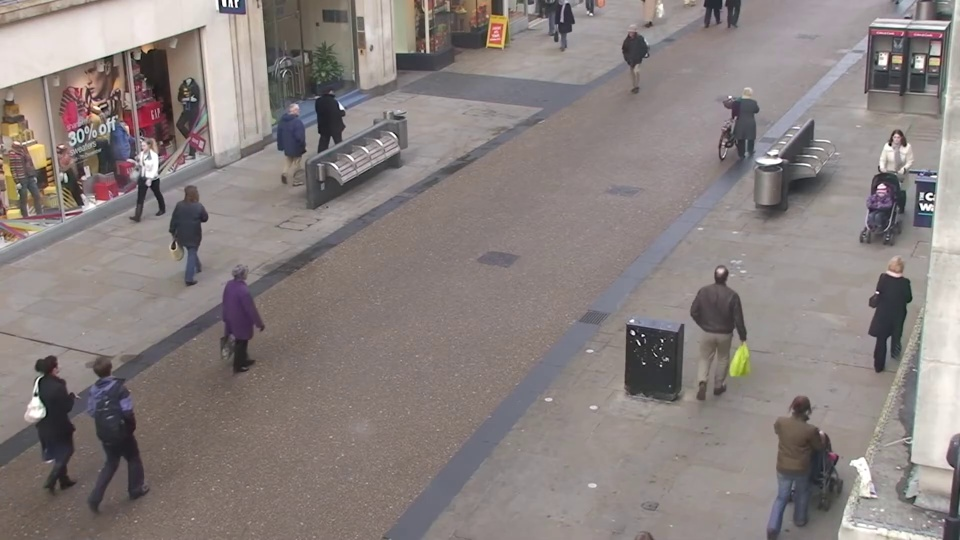pedestrian: (37, 337, 105, 490), (774, 373, 834, 538), (88, 336, 153, 488), (870, 244, 925, 376), (230, 255, 280, 386), (699, 250, 745, 381), (852, 179, 899, 293), (176, 175, 220, 285), (869, 125, 912, 226), (121, 136, 163, 235), (284, 98, 318, 187), (734, 82, 765, 169), (321, 78, 352, 163), (617, 26, 641, 98)
